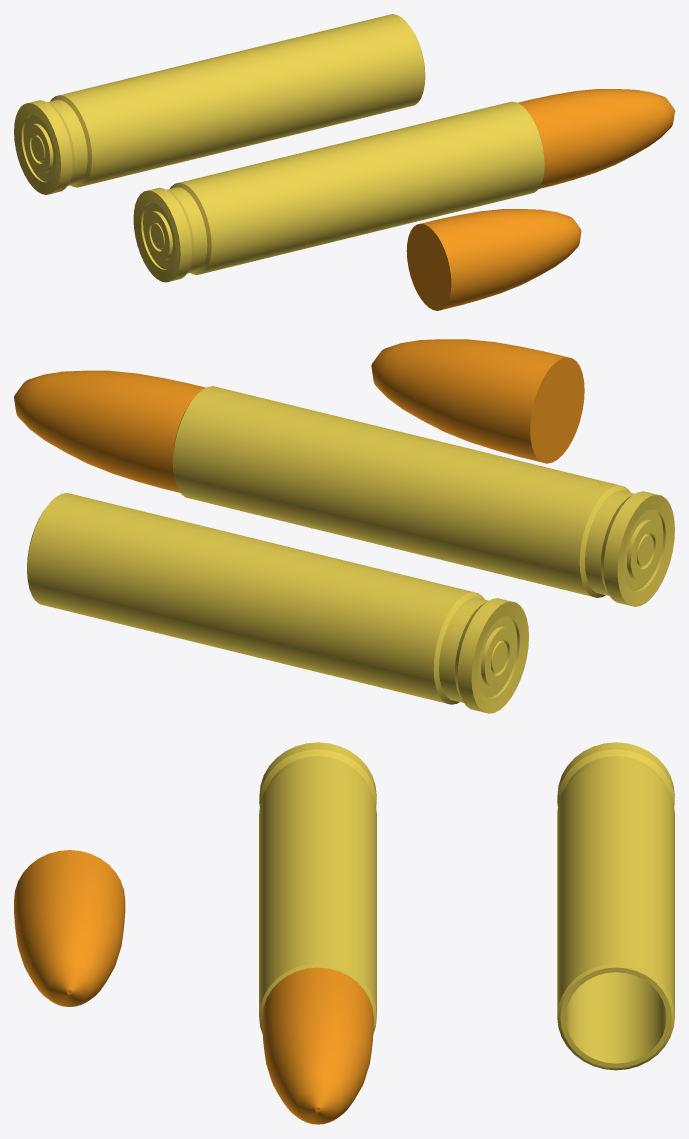
File: bullets_parts.fbx
3 renders of one model, top to bottom at view 1: azimuth 30°, elevation 25°; view 2: azimuth 150°, elevation 25°; view 3: azimuth 270°, elevation 25°, orthographic. The views are drawn at different scales.
Visible parts, largest first — view 1: bullet_full, bullet_body, bullet_head; view 2: bullet_full, bullet_body, bullet_head; view 3: bullet_full, bullet_body, bullet_head.
Part boxes in pixels (left/top/right/bottom): bullet_full: left=133, top=89, right=674, bottom=282; bullet_body: left=14, top=14, right=425, bottom=194; bullet_head: left=406, top=209, right=581, bottom=310; bullet_full: left=14, top=370, right=674, bottom=606; bullet_body: left=27, top=493, right=528, bottom=713; bullet_head: left=371, top=339, right=584, bottom=463; bullet_full: left=259, top=742, right=376, bottom=1124; bullet_body: left=557, top=742, right=674, bottom=1070; bullet_head: left=14, top=850, right=125, bottom=1006.
Size of the model in its own units: 1498 by 237 by 1331.
